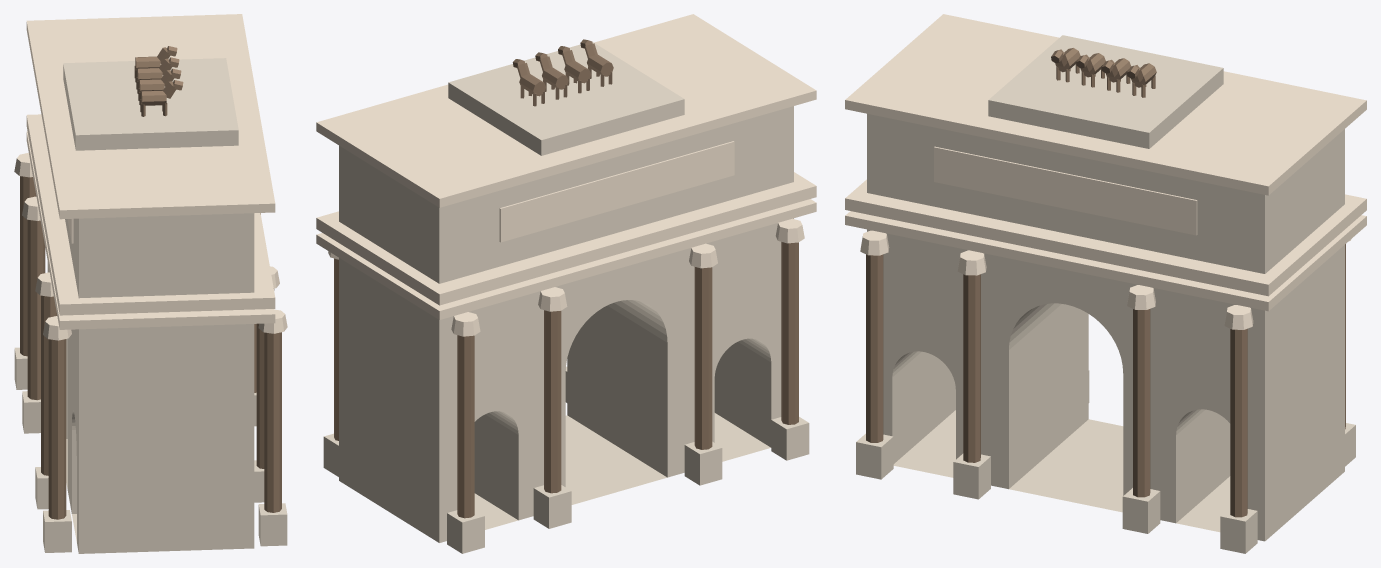
3 views of the same model, side by side, from view 1: azimuth 30°, elevation 25°; view 2: azimuth 150°, elevation 25°; view 3: azimuth 270°, elevation 25° (orthographic). The views are drawn at different scales.
Visible parts, largest first — view 1: stone, trim, metal; view 2: stone, trim, metal; view 3: stone, trim, metal.
Boxes of the visible parts, x1,y1,x2,y2 form: stone: (14,58,287,553); trim: (14,14,287,340); metal: (20,46,281,519); stone: (323,42,809,553); trim: (316,14,816,336); metal: (334,39,798,518); stone: (856,35,1355,553); trim: (845,14,1366,329); metal: (866,48,1345,517).
Size of the model in its own units: 16.32 by 17.99 by 20.43.
